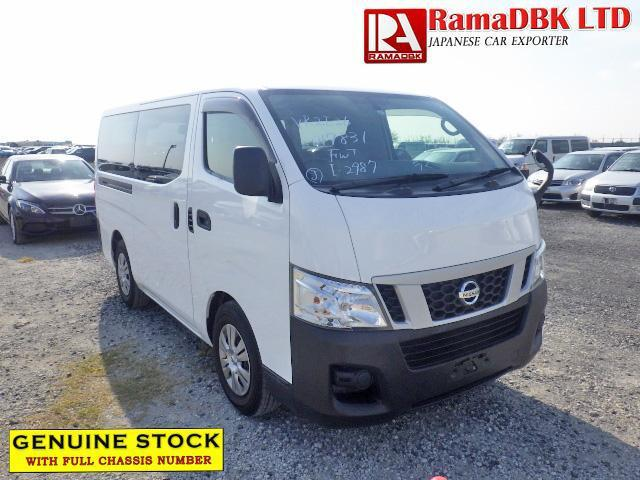Van: (88, 90, 552, 397)
